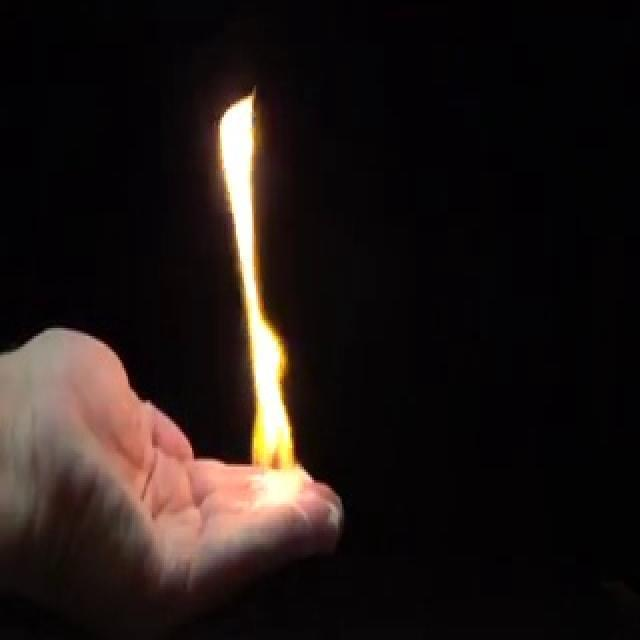fire: (212, 78, 310, 515)
